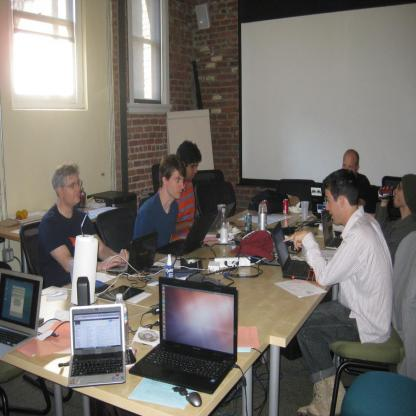board: (132, 276, 244, 406), (66, 304, 127, 389), (0, 266, 43, 358), (155, 212, 217, 257), (271, 221, 316, 280), (106, 232, 158, 276), (188, 202, 235, 232), (320, 208, 343, 250), (115, 291, 129, 359), (221, 208, 228, 246), (378, 187, 394, 201), (301, 201, 309, 222), (246, 212, 252, 235), (283, 198, 289, 216), (263, 200, 268, 217)
